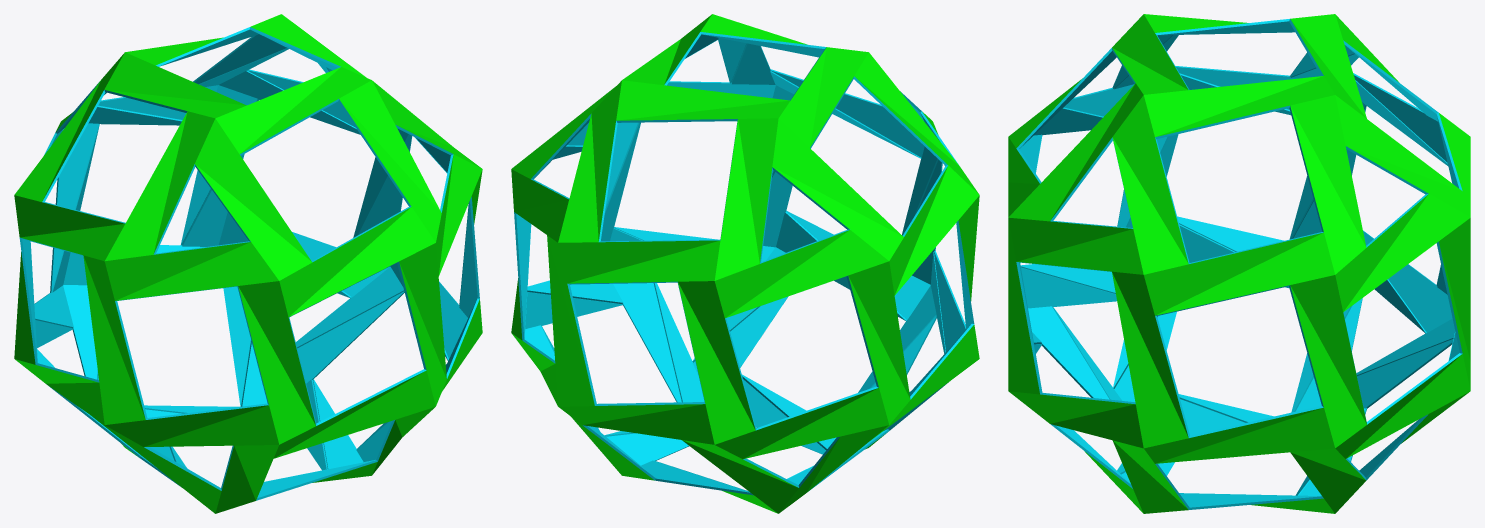
The model's file is Rhombicuboctahedron.glb.
The picture shows the model from 3 angles, left to right: view 1: azimuth 30°, elevation 25°; view 2: azimuth 150°, elevation 25°; view 3: azimuth 270°, elevation 25°; orthographic projection. The views are drawn at different scales.
Parts seen in each view (by area): view 1: root; view 2: root; view 3: root.
Part boxes in pixels (box(x1,y1,x2,y2)): root: box(14, 14, 482, 513); root: box(511, 14, 979, 513); root: box(1008, 14, 1470, 513).
Bounding box in the file's own units: 7.24 × 7.24 × 7.24.
